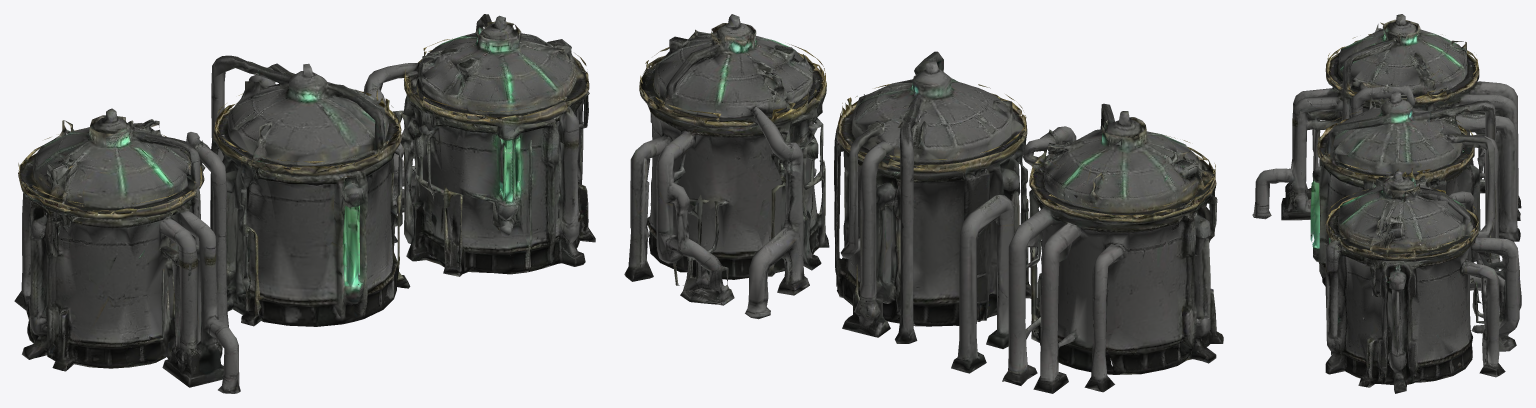
Rendered from gasTank.glb.
3 views of the same model, side by side, from view 1: azimuth 30°, elevation 25°; view 2: azimuth 150°, elevation 25°; view 3: azimuth 270°, elevation 25° (orthographic). The views are drawn at different scales.
Bounding box in the file's own units: 1.9 × 0.7391 × 0.9566.
Materials: 1 (1 with a texture image).
